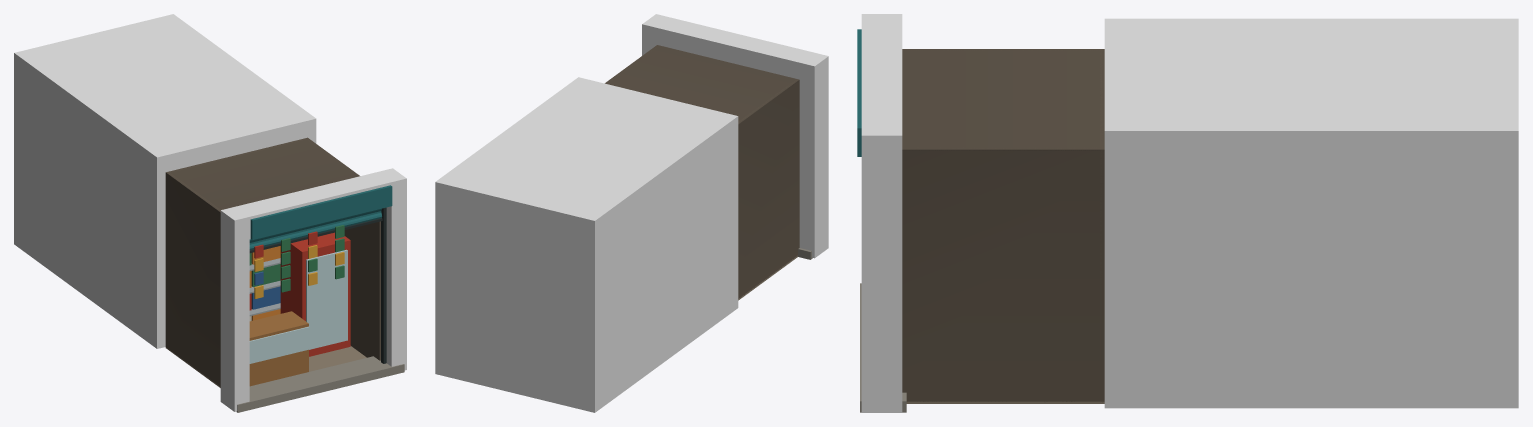
The model's file is tret_tap_hoa_32.glb.
The picture shows the model from 3 angles, left to right: view 1: azimuth 30°, elevation 25°; view 2: azimuth 150°, elevation 25°; view 3: azimuth 270°, elevation 25°; orthographic projection. The views are drawn at different scales.
Parts seen in each view (by area): view 1: tret_tap_hoa_32; view 2: tret_tap_hoa_32; view 3: tret_tap_hoa_32.
Boxes of the visible parts, x1=… form: tret_tap_hoa_32: x1=14, y1=14, x2=406, y2=412; tret_tap_hoa_32: x1=435, y1=14, x2=828, y2=412; tret_tap_hoa_32: x1=857, y1=14, x2=1518, y2=412.
Bounding box in the file's own units: 3.2 × 3.42 × 7.35.
